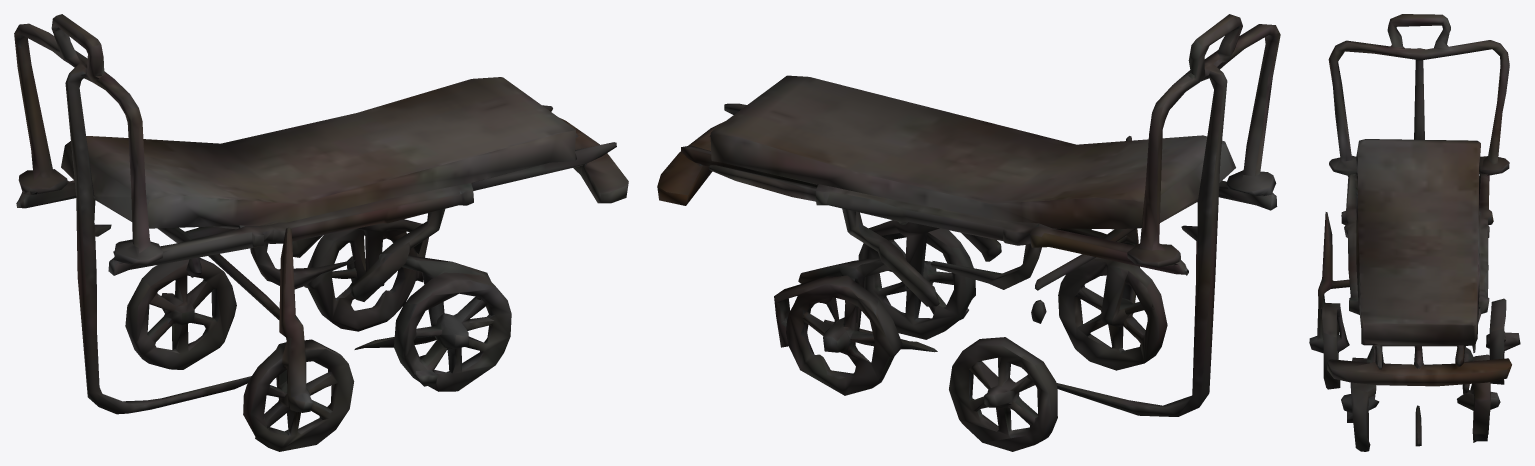
The model's file is plain-iron-gurney-v002.glb.
The picture shows the model from 3 angles, left to right: view 1: azimuth 30°, elevation 25°; view 2: azimuth 150°, elevation 25°; view 3: azimuth 270°, elevation 25°; orthographic projection. The views are drawn at different scales.
Parts seen in each view (by area): view 1: plain-iron-gurney; view 2: plain-iron-gurney; view 3: plain-iron-gurney.
Boxes of the visible parts, bbox=[...] form: plain-iron-gurney: bbox=[14, 14, 628, 451]; plain-iron-gurney: bbox=[657, 14, 1280, 451]; plain-iron-gurney: bbox=[1309, 14, 1520, 451].
Size of the model in its own units: 1.06 by 0.8017 by 0.4952.
1 material, 1 textured.
